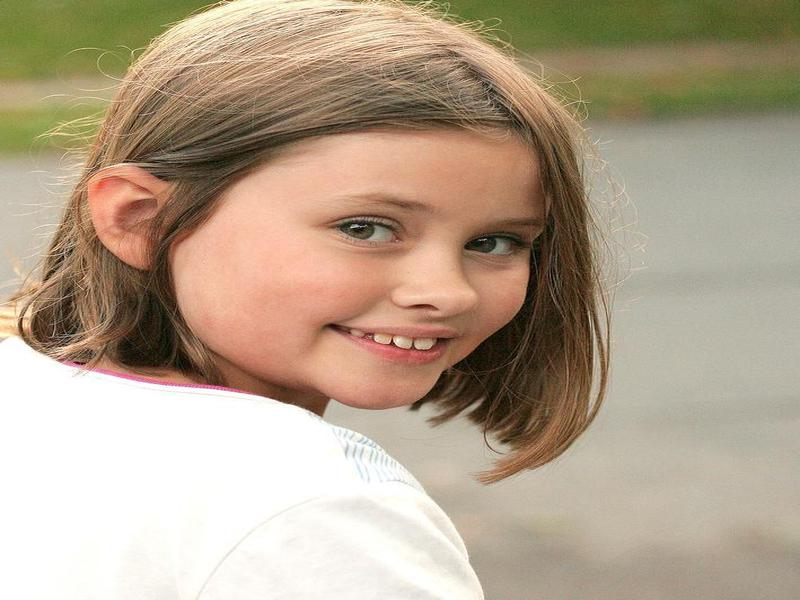person: (1, 4, 613, 597)
